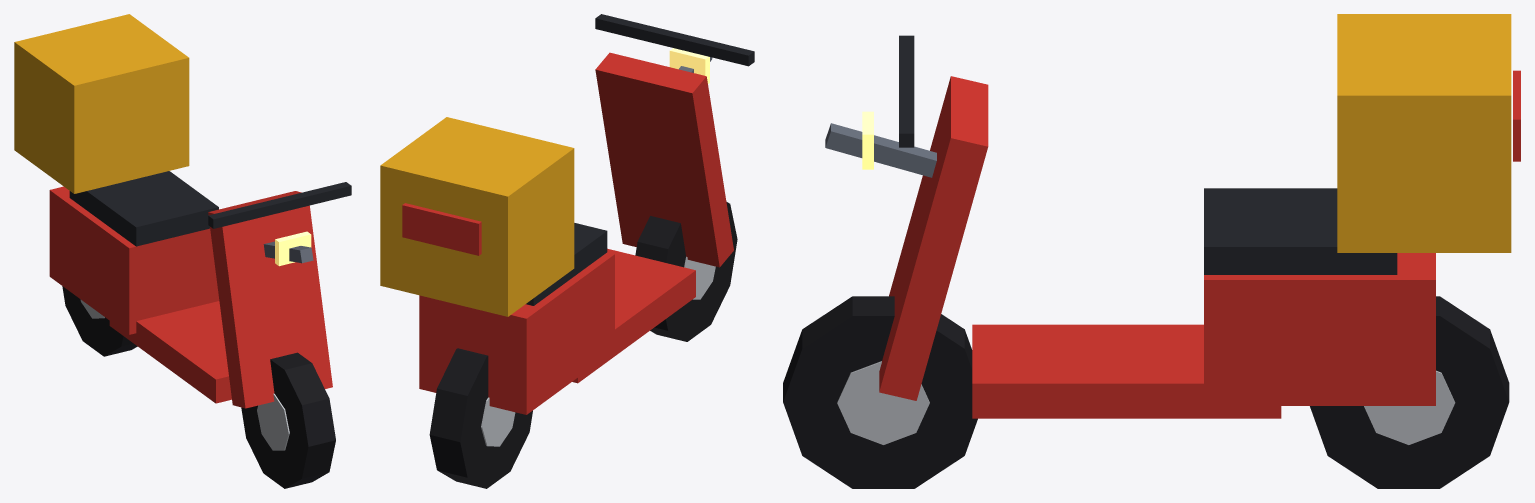
File: delivery_scooter.glb
The picture shows the model from 3 angles, left to right: view 1: azimuth 30°, elevation 25°; view 2: azimuth 150°, elevation 25°; view 3: azimuth 270°, elevation 25°; orthographic projection. The views are drawn at different scales.
Parts seen in each view (by area): view 1: body_scooter_red, box_thermal_box, wheels_tire, body_car_black, wheels_rim, lights_lamp, body_car_grey; view 2: body_scooter_red, box_thermal_box, wheels_tire, body_car_black, box_delivery_red, wheels_rim, lights_lamp; view 3: body_scooter_red, box_thermal_box, wheels_tire, body_car_black, wheels_rim, body_car_grey.
Part boxes in pixels (<box>): body_scooter_red: <box>49,186,332,408</box>; box_thermal_box: <box>14,14,189,193</box>; wheels_tire: <box>62,286,335,488</box>; body_car_black: <box>69,171,351,246</box>; wheels_rim: <box>80,299,289,450</box>; lights_lamp: <box>275,231,311,266</box>; body_car_grey: <box>263,241,313,263</box>; body_scooter_red: <box>419,52,733,414</box>; box_thermal_box: <box>380,117,574,316</box>; wheels_tire: <box>429,201,737,488</box>; body_car_black: <box>526,14,754,305</box>; box_delivery_red: <box>402,203,481,255</box>; wheels_rim: <box>481,256,715,446</box>; lights_lamp: <box>669,48,709,83</box>; body_scooter_red: <box>879,76,1435,418</box>; box_thermal_box: <box>1337,14,1511,252</box>; wheels_tire: <box>783,296,1509,488</box>; body_car_black: <box>899,35,1397,274</box>; wheels_rim: <box>837,361,1455,444</box>; body_car_grey: <box>825,123,936,177</box>.
Bounding box in the file's own units: 0.6 × 1.21 × 1.91.
